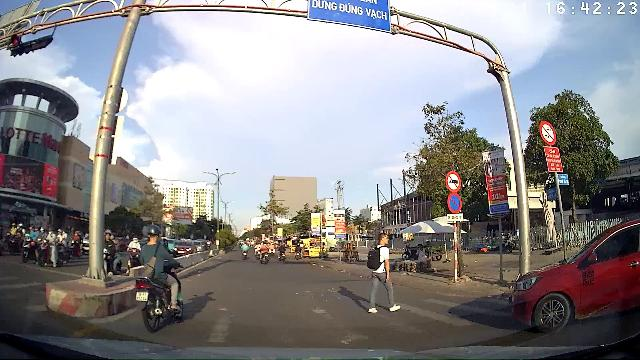131a-cam-do-xe: (448, 193, 462, 213)
